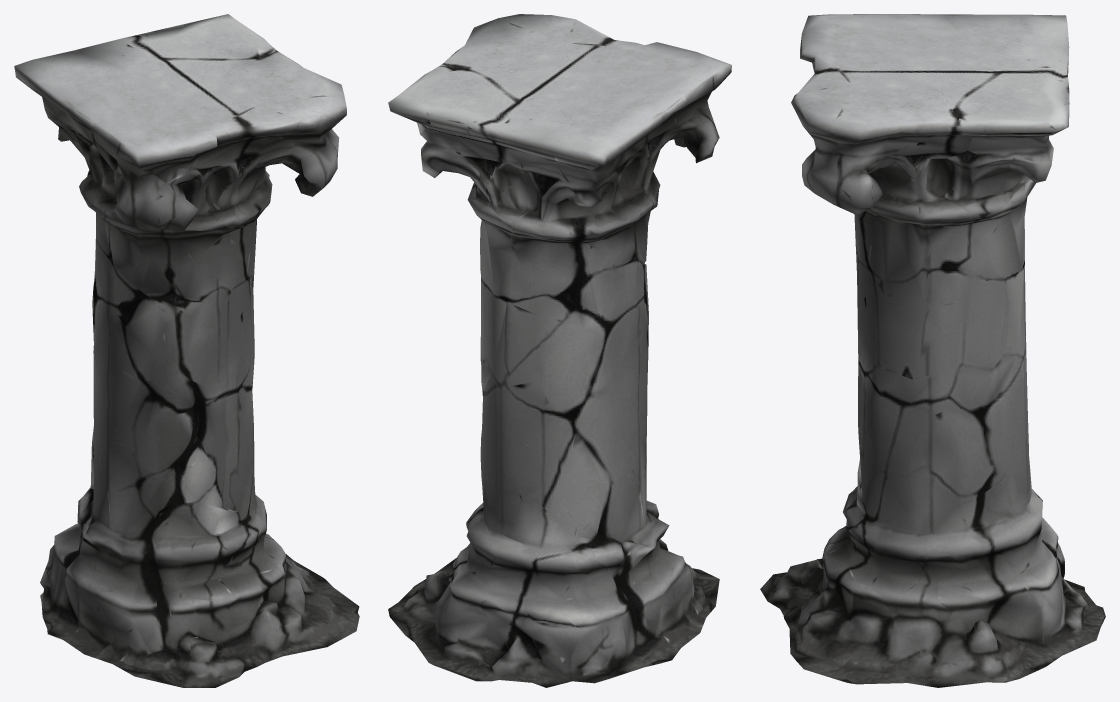
File: pillar_crumbling.glb
3 views of the same model, side by side, from view 1: azimuth 30°, elevation 25°; view 2: azimuth 150°, elevation 25°; view 3: azimuth 270°, elevation 25° (orthographic). The views are drawn at different scales.
Bounding box in the file's own units: 1.04 × 2 × 1.14.
Materials: 1 (1 with a texture image).
